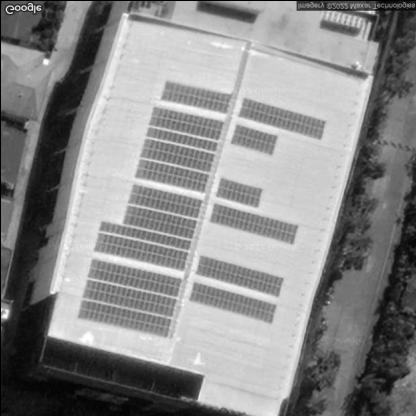solar-pv-panel: (76, 257, 181, 337), (133, 106, 223, 193), (91, 218, 191, 270), (122, 179, 201, 238), (193, 255, 284, 297), (187, 281, 276, 323), (209, 203, 299, 244), (238, 96, 326, 137), (159, 79, 231, 114), (214, 176, 263, 207), (228, 124, 279, 153)
